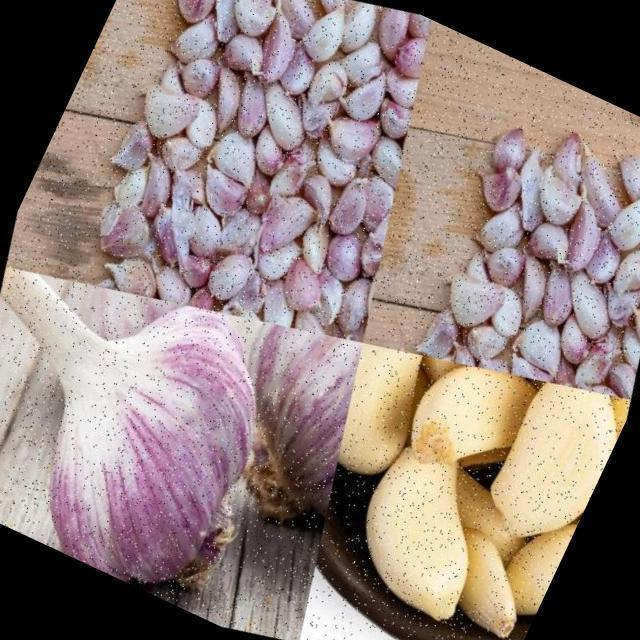garlic: (18, 0, 497, 399), (0, 209, 341, 624), (367, 72, 640, 444), (159, 294, 404, 570), (307, 409, 517, 640), (1, 229, 247, 423), (442, 351, 634, 572), (377, 329, 562, 505), (308, 332, 448, 496), (458, 478, 584, 634)
